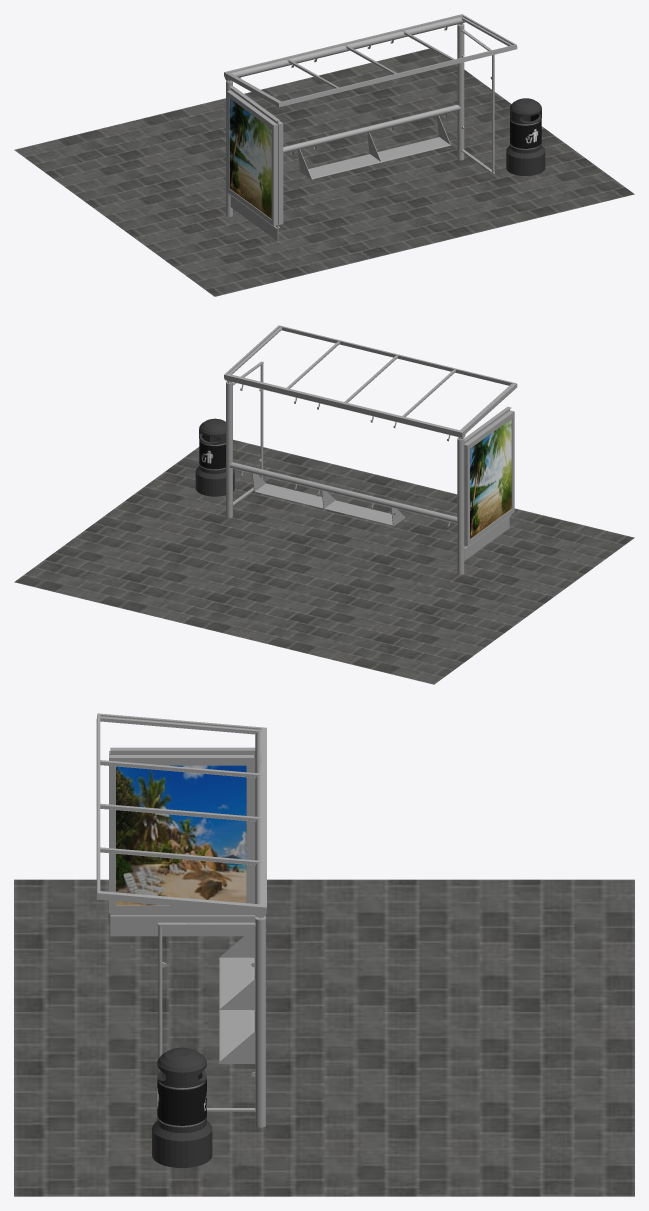
The model's file is bus-stop-glass.glb.
3 renders of one model, top to bottom at view 1: azimuth 30°, elevation 25°; view 2: azimuth 150°, elevation 25°; view 3: azimuth 270°, elevation 25°, orthographic. The views are drawn at different scales.
Visible parts, largest first — view 1: Plane, Cylinder.001 (×2), Circle; view 2: Plane, Cylinder.001 (×2), Circle; view 3: Plane, Cylinder.001 (×2), Circle.
Boxes of the visible parts, bbox=[...] form: Plane: bbox=[14, 48, 634, 296]; Cylinder.001 (×2): bbox=[224, 14, 517, 241]; Circle: bbox=[506, 98, 545, 175]; Plane: bbox=[14, 439, 634, 684]; Cylinder.001 (×2): bbox=[224, 325, 517, 574]; Circle: bbox=[195, 418, 234, 496]; Plane: bbox=[14, 879, 634, 1196]; Cylinder.001 (×2): bbox=[96, 713, 266, 1127]; Circle: bbox=[152, 1047, 212, 1167].
Bounding box in the file's own units: 3.5 × 1.21 × 2.9.
Materials: 5 (5 with a texture image).
